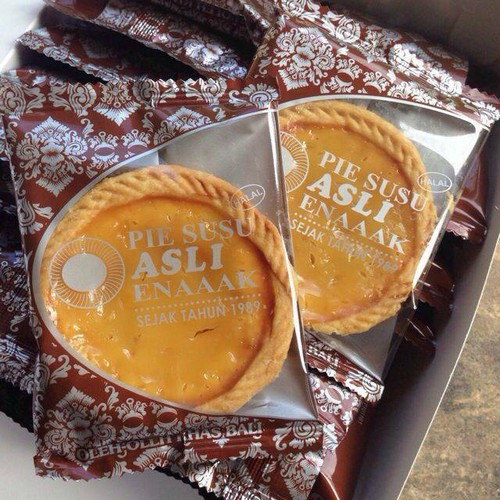pie susu: (50, 182, 298, 418), (268, 96, 431, 355)
